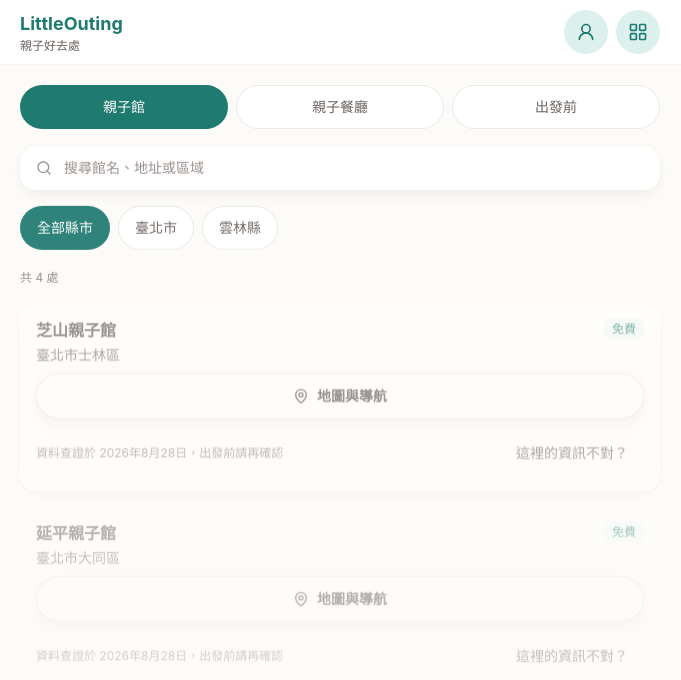
Scenario: 搜尋 › 搜不到就說搜不到
The image size is (681, 680).
Step 1. Type "不存在的地名" into the search field → (340, 168), box [20,146,660,190]
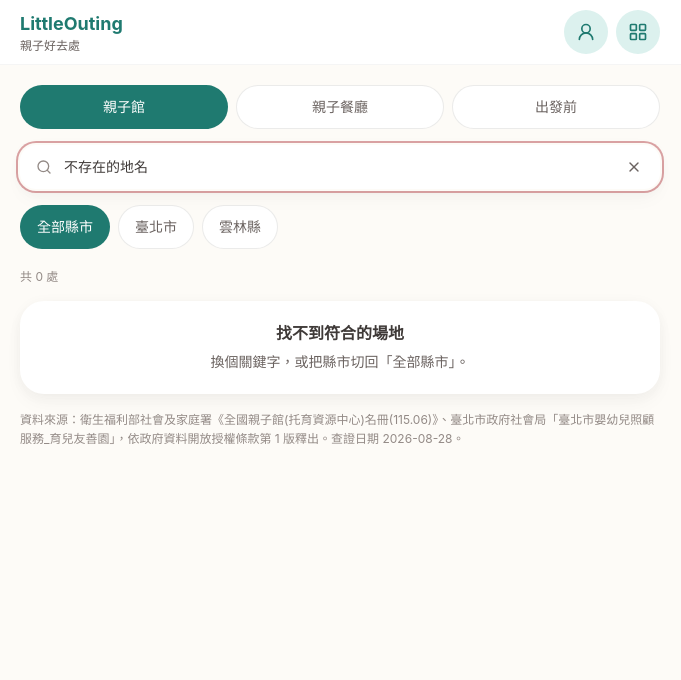
Check: the heading "找不到符合的場地" is shown, box [276,323,404,343]
